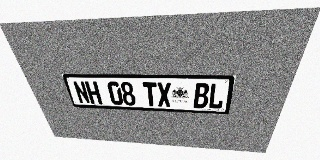0: (106, 81, 124, 105)
8: (120, 82, 136, 106)
B: (193, 83, 210, 108)
H: (84, 81, 103, 104)
L: (208, 83, 226, 109)
N: (72, 81, 91, 104)
T: (142, 82, 158, 106)
X: (157, 82, 171, 107)
